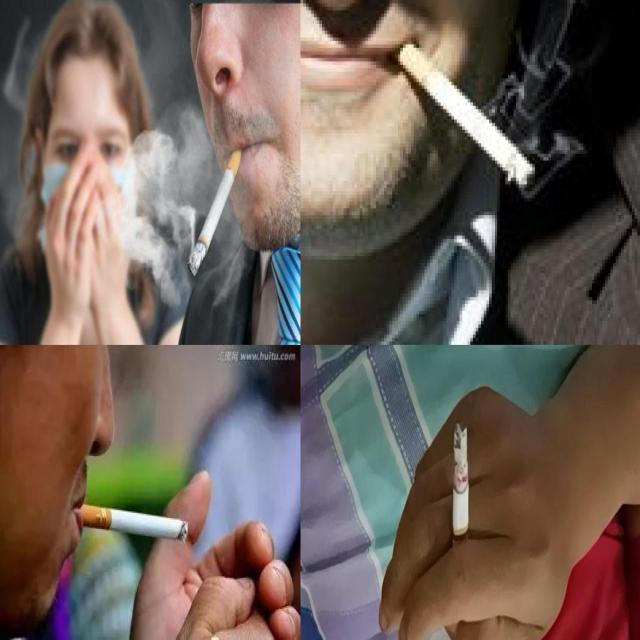smoking: (385, 32, 535, 192), (187, 146, 243, 278), (76, 504, 190, 542), (452, 423, 469, 578)
